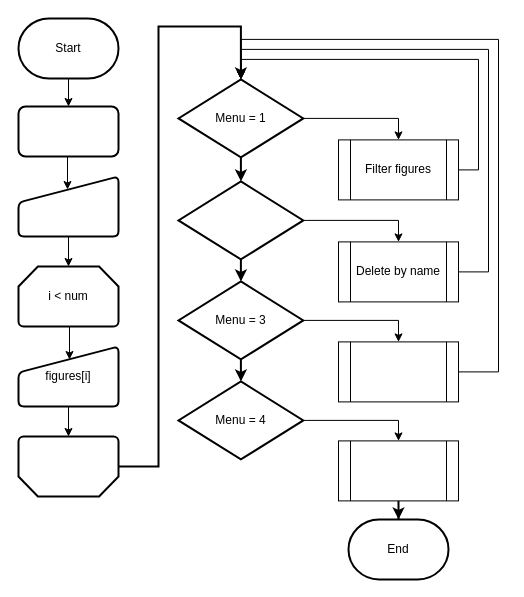
Image size: 524x597. Some labels were removed from this diagram. Here are the shapes that lost their labels. From the top down, the centre of each, then its label:
At (x=68, y=131): "struct figure figures".
At (x=68, y=206): "num".
At (x=240, y=220): "Menu = 2".
At (x=398, y=371): "View figures".
At (x=398, y=470): "Exit".
